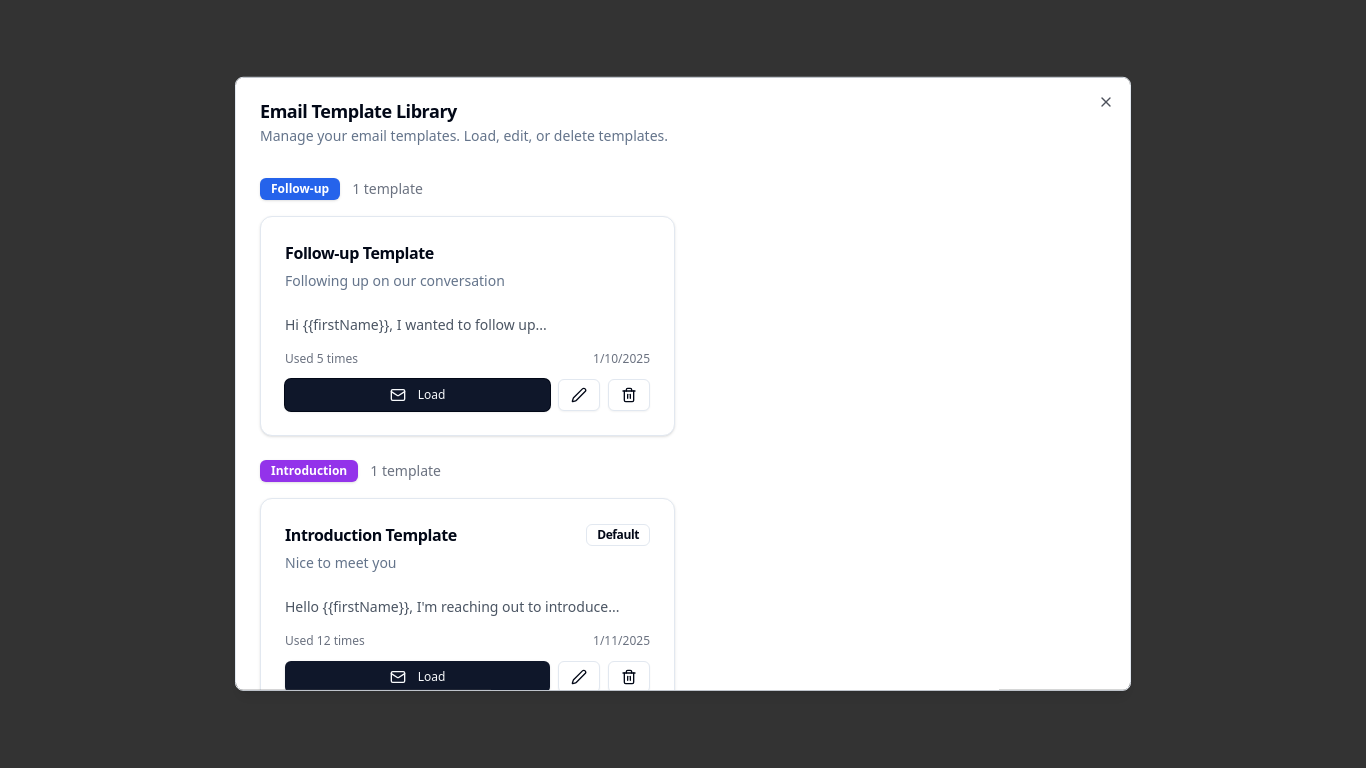
Scenario: TemplateLibrary › 20.8 Edit Template › should open edit modal when edit button clicked
Click the 3rd button at (579, 395), box left=558, top=379, right=600, bottom=411
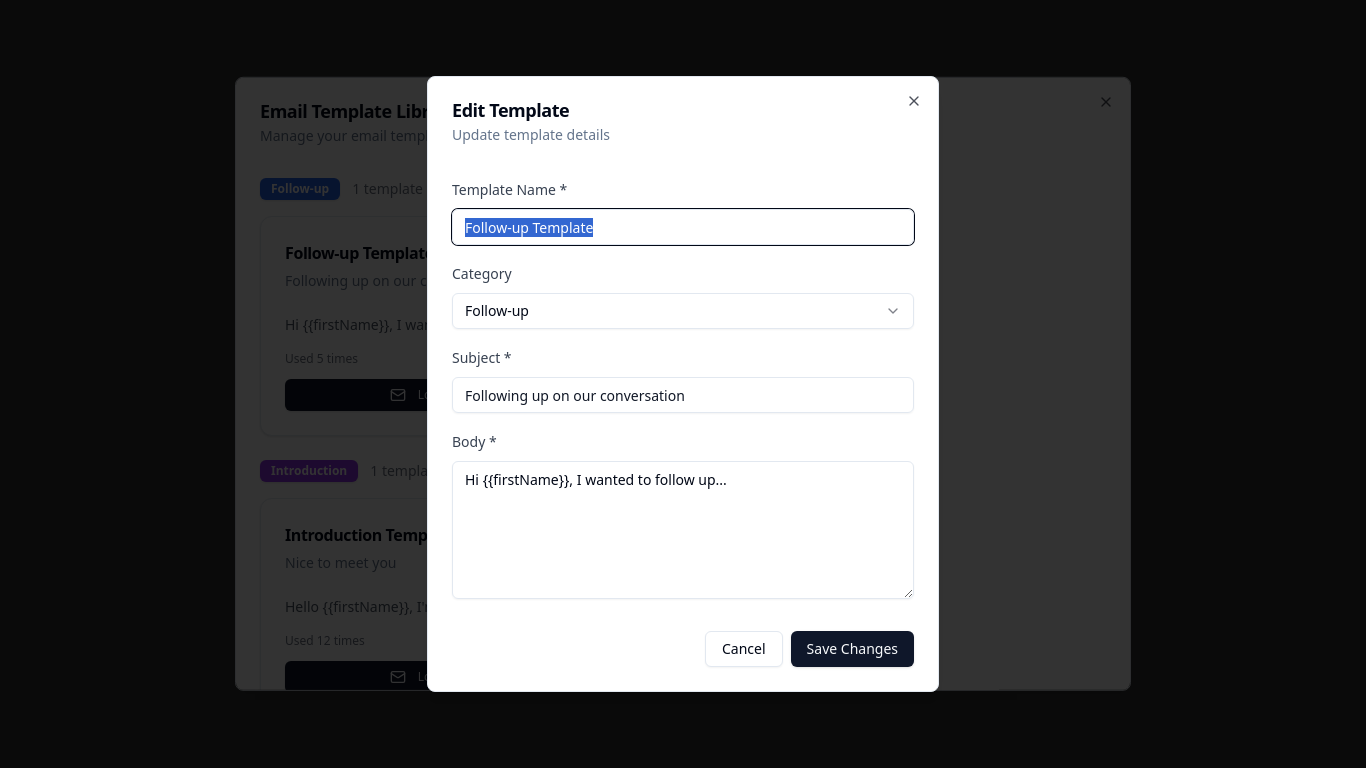
Check: the field labelled "Template Name *" is shown, box left=452, top=209, right=914, bottom=245
